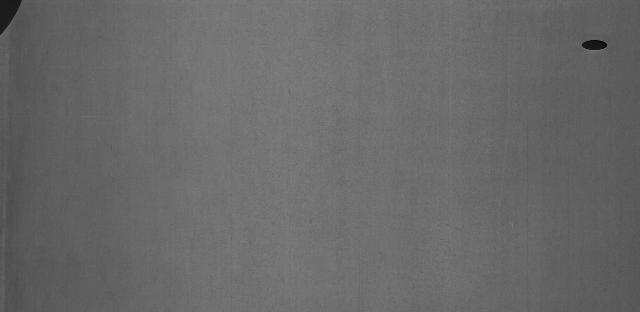punching_hole: (580, 35, 609, 55)
